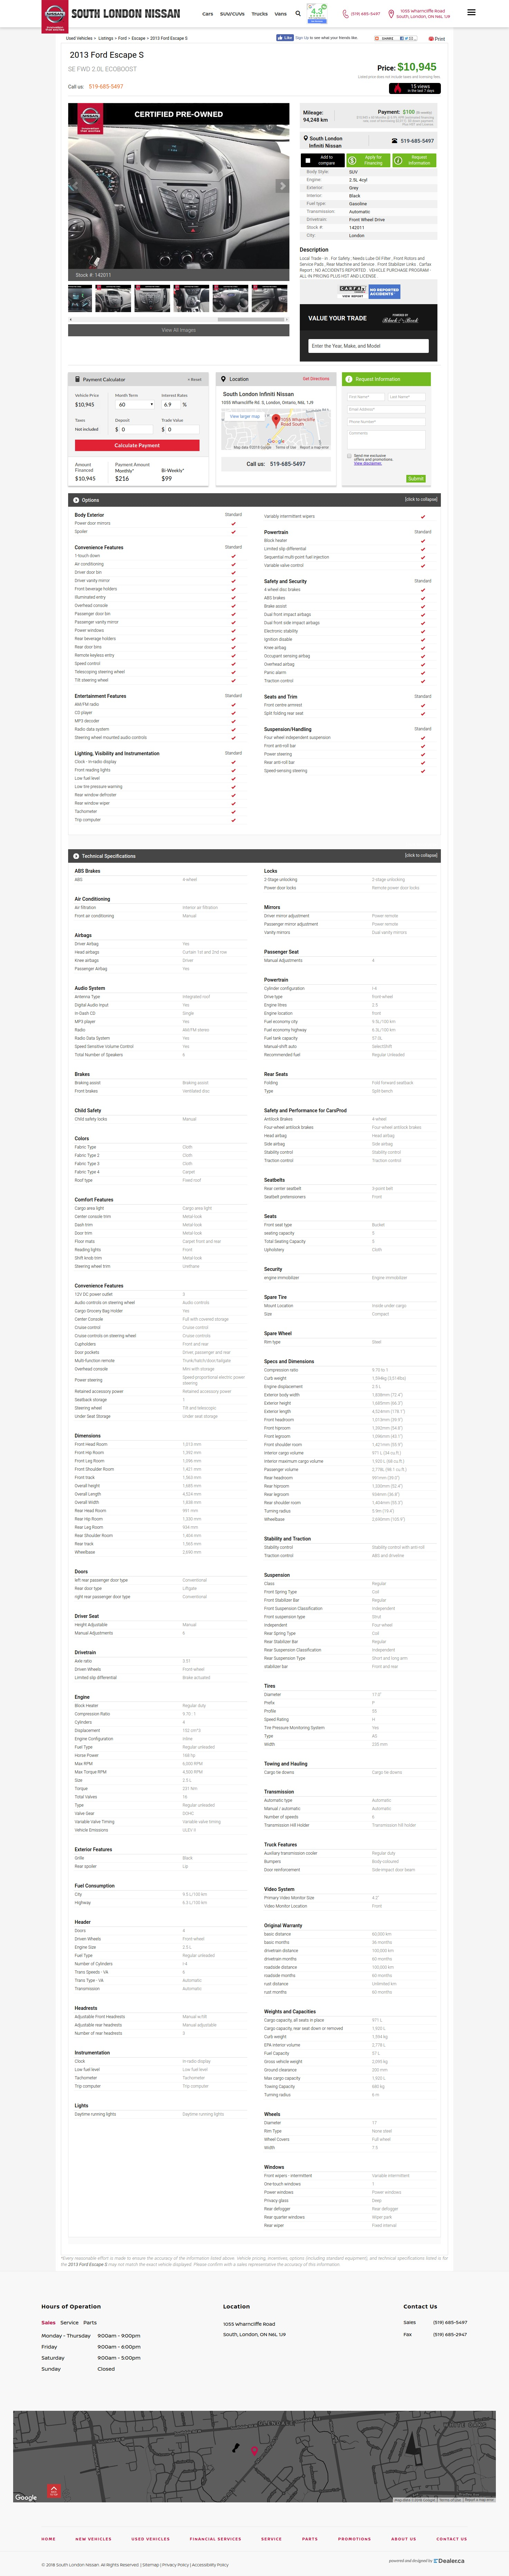car: (274, 179, 291, 194)
